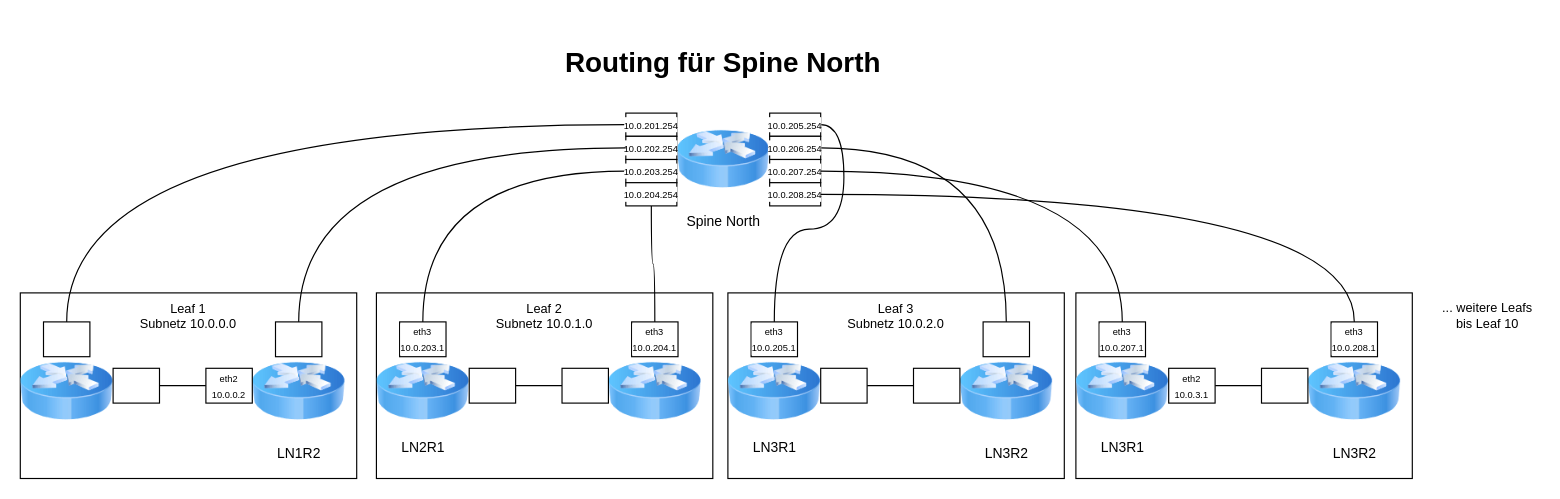
The diagram is 1560 pixels wide and 499 high, and some of its shapes have lost their labels. Here are the shapes that lost their labels. From the top down, the box of each, then its label:
(42, 321, 90, 357): eth3 10.0.201.1
(274, 321, 322, 357): eth3 10.0.202.1
(982, 321, 1030, 357): eth3 10.0.206.1
(20, 350, 113, 432): LN1R1
(112, 367, 160, 403): eth2 10.0.0.1
(468, 367, 516, 403): eth2 10.0.1.1
(561, 367, 608, 403): eth2 10.0.1.2
(608, 345, 701, 437): LN2R2
(820, 367, 867, 403): eth2 10.0.2.1
(912, 367, 960, 403): eth2 10.0.2.2
(1075, 292, 1412, 478): Leaf 4 Subnetz 10.0.3.0
(1260, 367, 1308, 403): eth2 10.0.3.2
